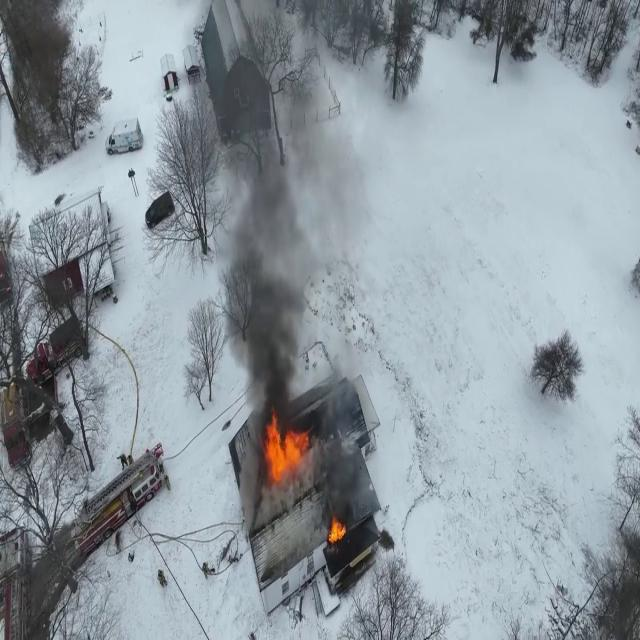Fire: (262, 406, 310, 492)
Smoke: (212, 24, 372, 400)
